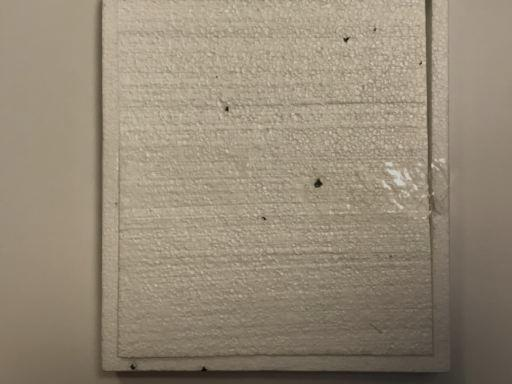cardboard: (93, 5, 452, 381)
